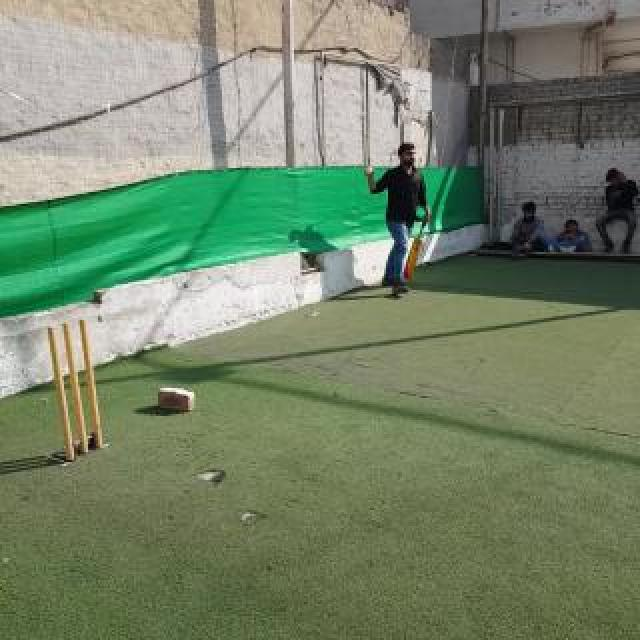ball: (366, 167, 372, 175)
bat: (403, 215, 429, 281)
